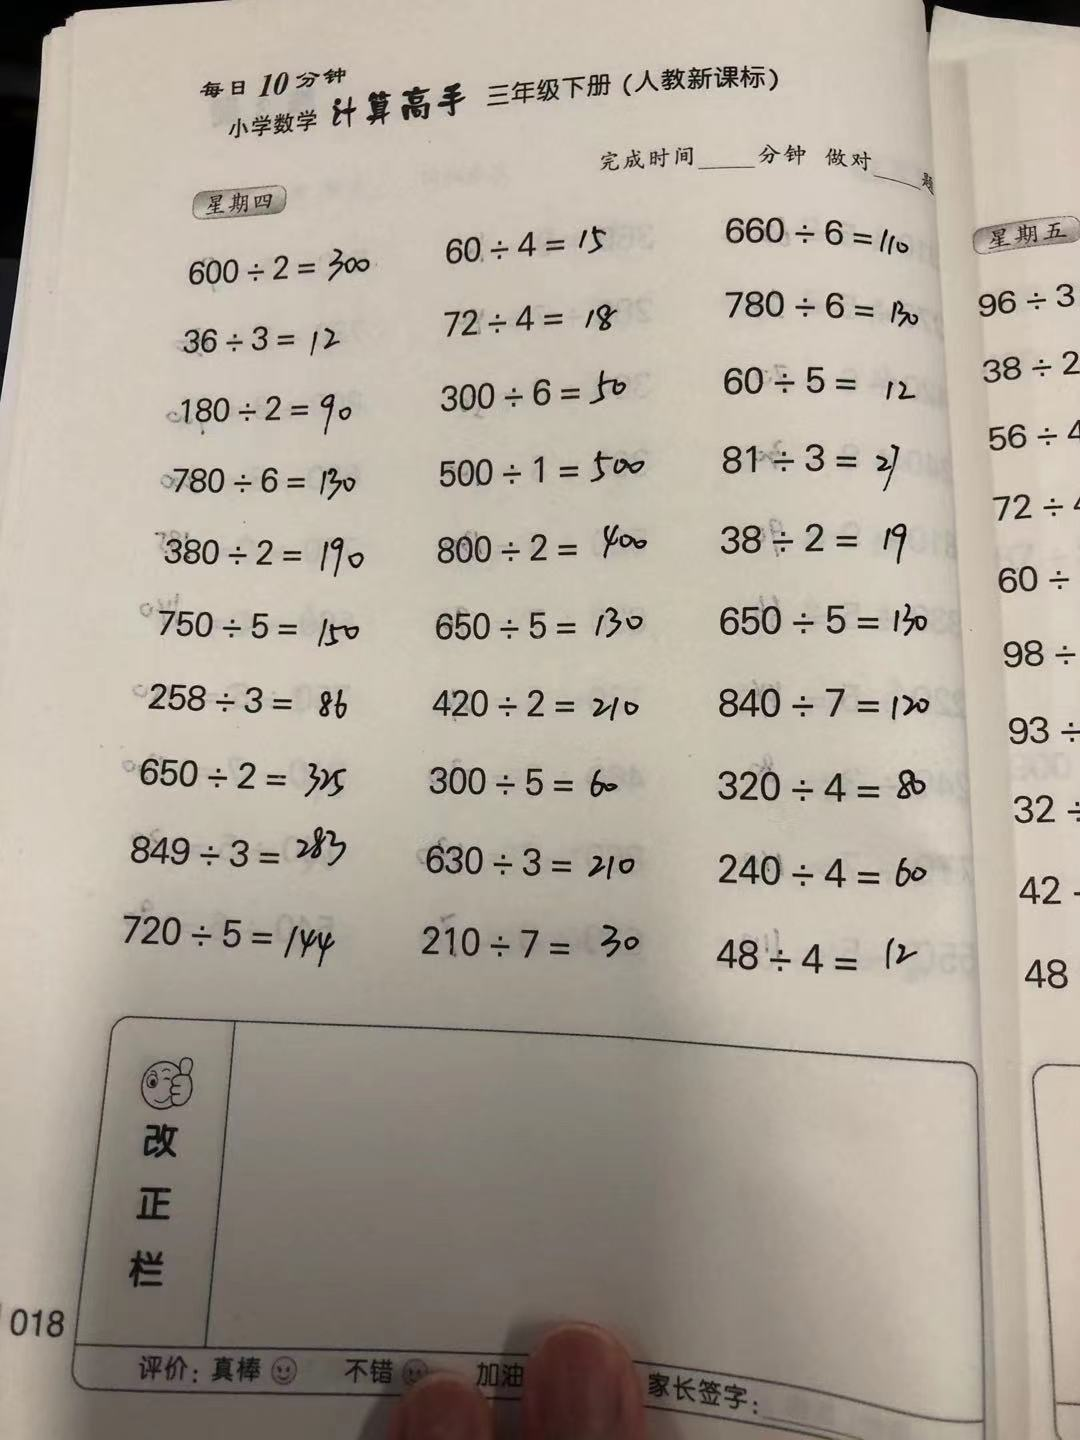equation: (109, 902, 347, 984), (131, 822, 368, 883), (151, 593, 363, 661), (134, 746, 359, 807), (404, 828, 652, 883), (706, 351, 927, 412), (409, 910, 661, 961), (700, 765, 958, 813), (716, 203, 918, 262), (420, 594, 656, 644), (706, 673, 950, 721), (718, 845, 947, 896), (713, 513, 932, 565), (430, 682, 656, 732), (427, 522, 689, 564), (708, 932, 957, 976), (716, 278, 941, 324), (427, 451, 664, 494), (414, 755, 645, 798), (158, 458, 366, 505), (142, 679, 358, 724), (163, 529, 379, 573), (713, 437, 919, 483), (435, 300, 638, 346), (703, 601, 956, 635), (169, 312, 347, 360), (436, 381, 637, 420), (173, 391, 371, 429), (177, 249, 384, 284), (430, 239, 624, 266)
